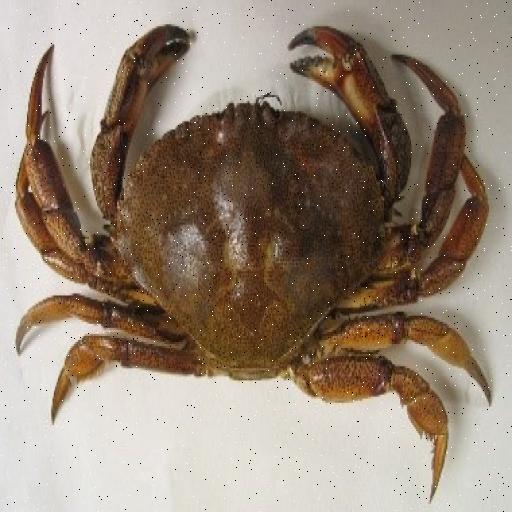rock crab: (6, 14, 507, 502)
